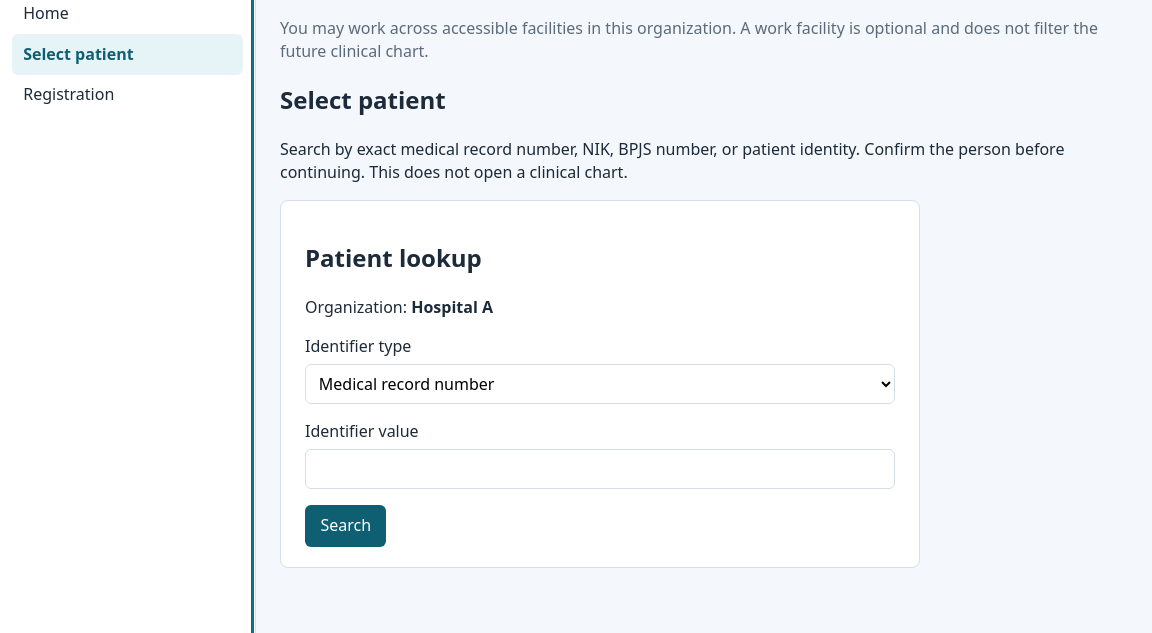
it: patient lookup and selection › keeps lookup B when stale A returns last
Type "AAA" into the field labelled "Identifier value". click: (600,469)
box: x1=305 y1=449 x2=895 y2=489
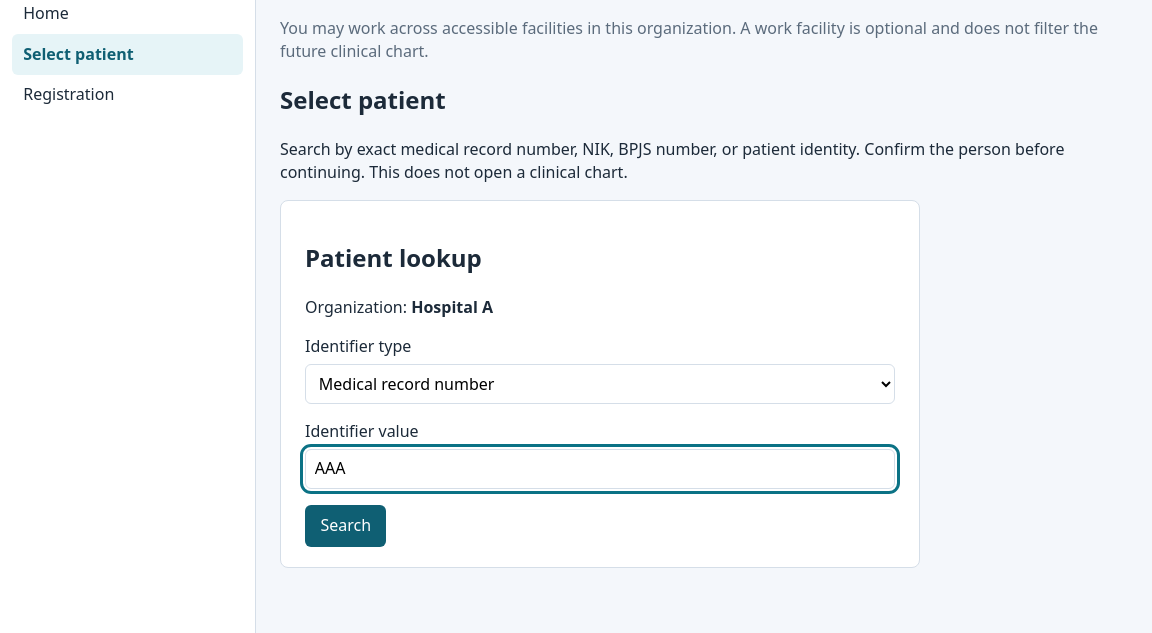
Click the button "Search". click: (346,526)
box: x1=305 y1=505 x2=386 y2=548
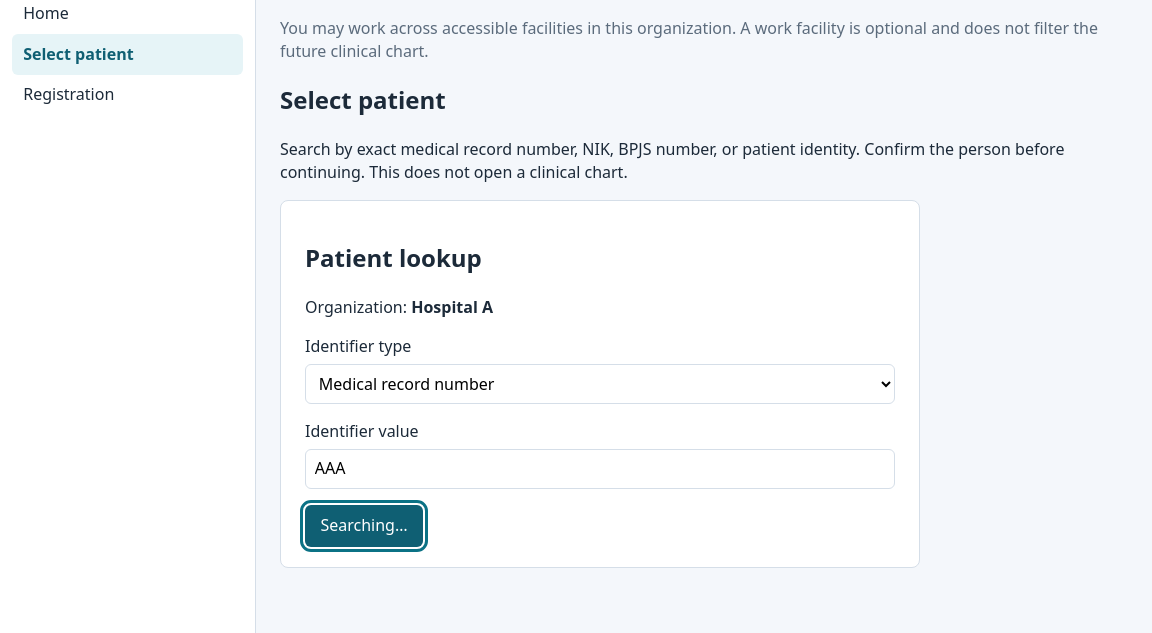
Replace the text in the field labelled "Identifier value" with "BBB". click: (600,469)
box: x1=305 y1=449 x2=895 y2=489
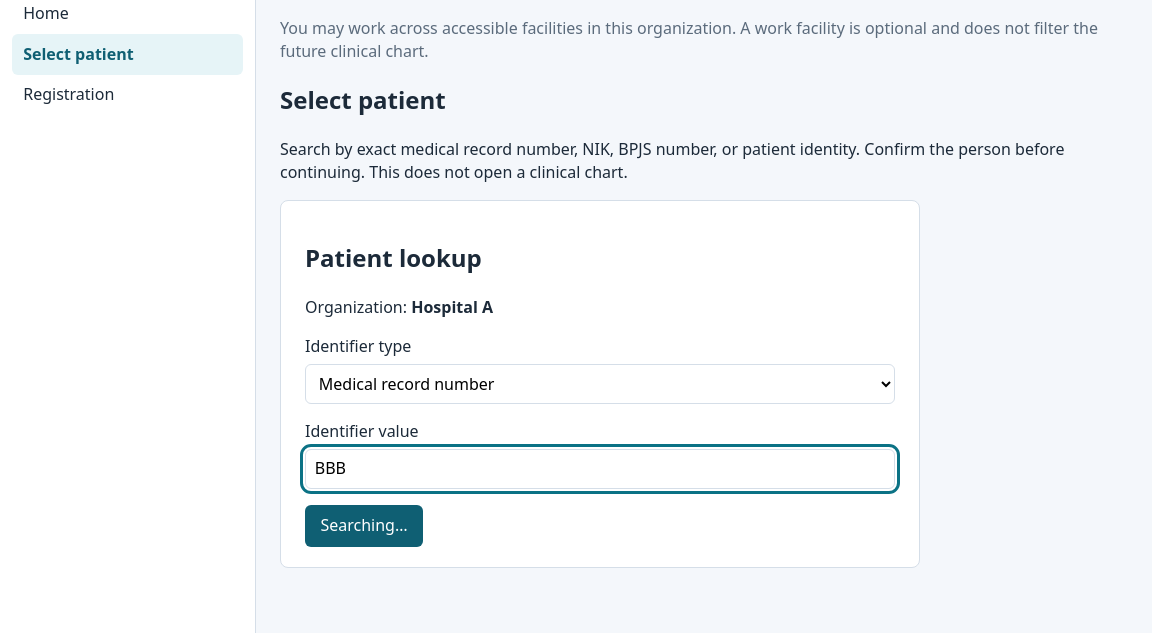
Click the button "Searching…". click: (364,526)
box: x1=305 y1=505 x2=423 y2=548
(page scrolled)
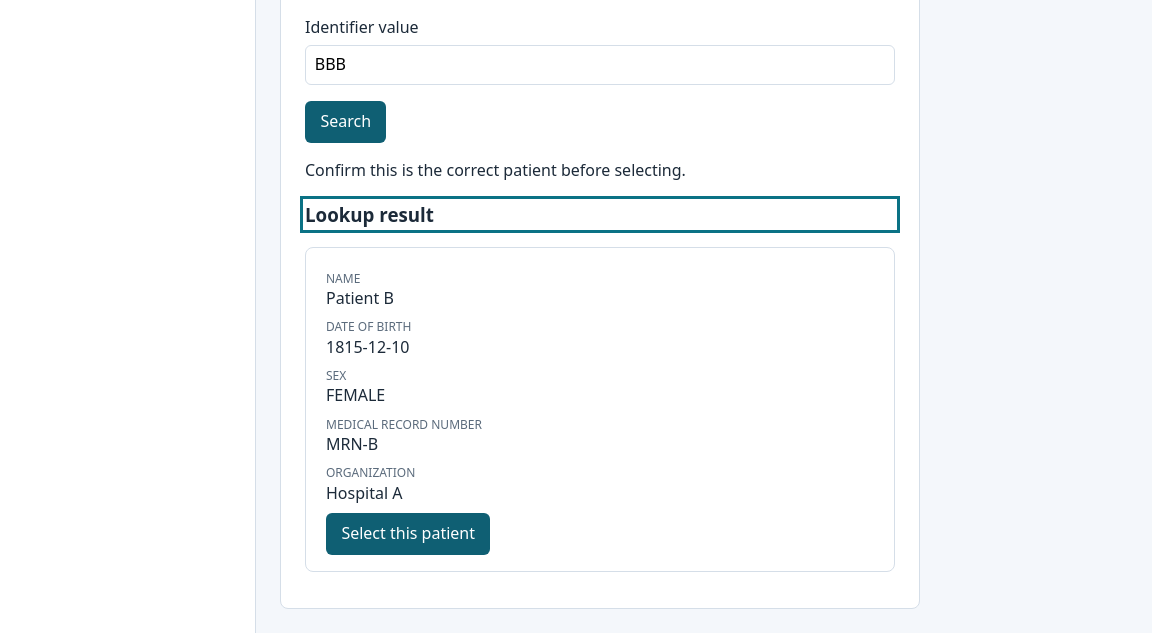
Check: the text "Patient B" is shown, box x1=326 y1=287 x2=394 y2=309
